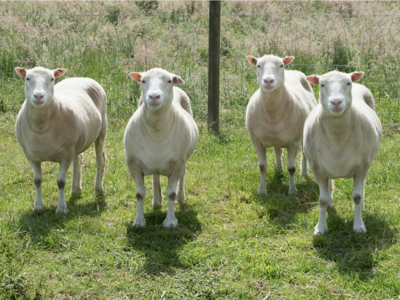koyun: (14, 65, 109, 215), (303, 72, 383, 235), (125, 69, 199, 229), (244, 55, 318, 198)
